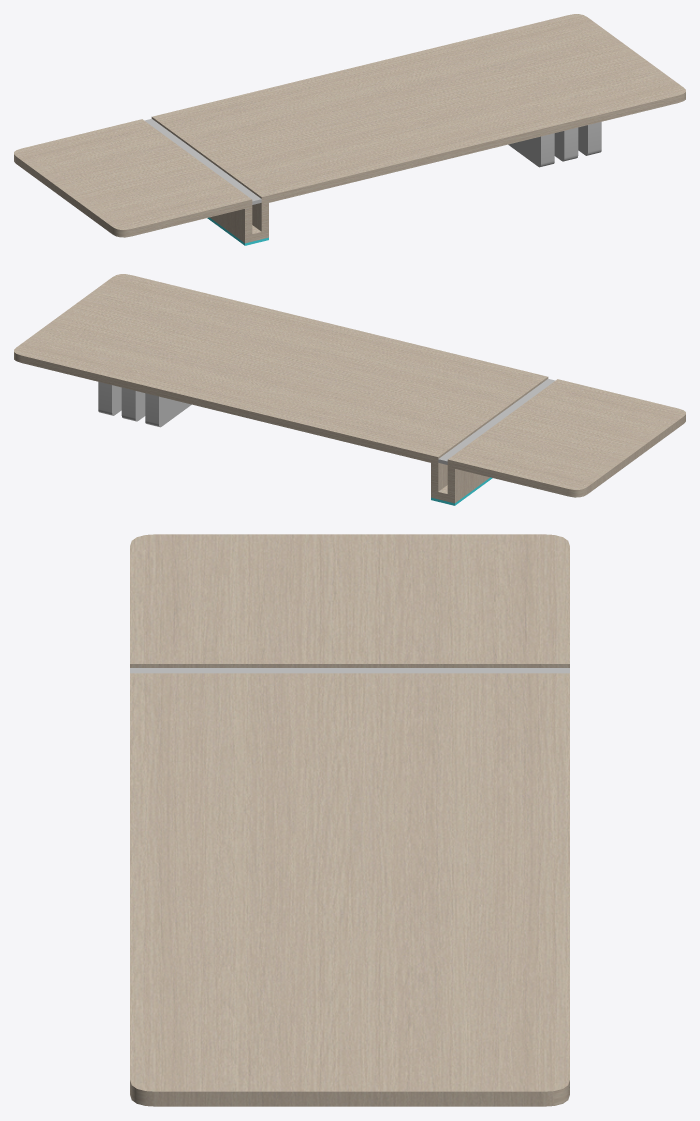
The model's file is D_Table_104.fbx.
3 views of the same model, one above another, from view 1: azimuth 30°, elevation 25°; view 2: azimuth 150°, elevation 25°; view 3: azimuth 270°, elevation 25° (orthographic). The views are drawn at different scales.
Visible parts, largest first — view 1: D_Table_104; view 2: D_Table_104; view 3: D_Table_104.
Boxes of the visible parts, box(x1,y1,x2,y2) form: D_Table_104: box(14, 14, 685, 245); D_Table_104: box(14, 274, 685, 505); D_Table_104: box(130, 534, 569, 1106).
Size of the model in its own units: 2.4 by 0.1791 by 0.8.
